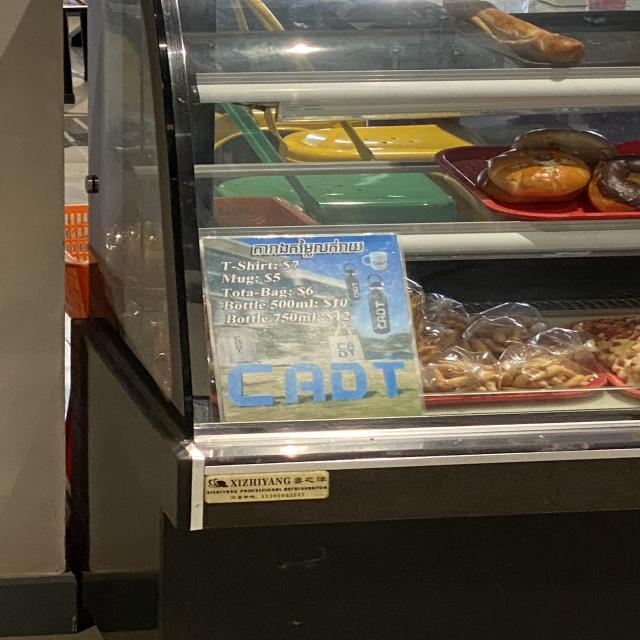Yolov11kh: (248, 235, 369, 260)
